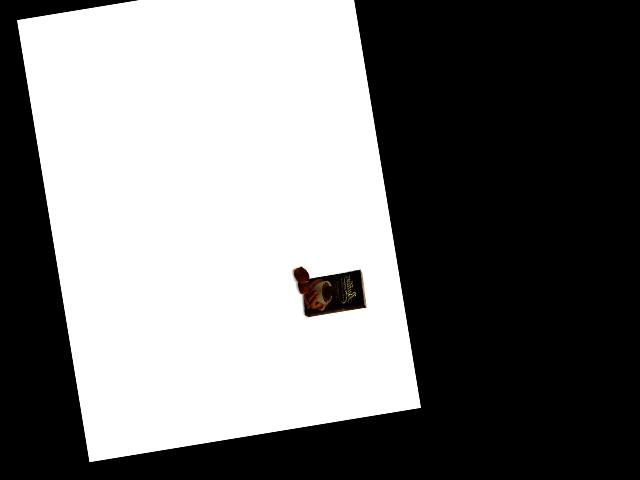chocolate: (296, 264, 370, 320)
